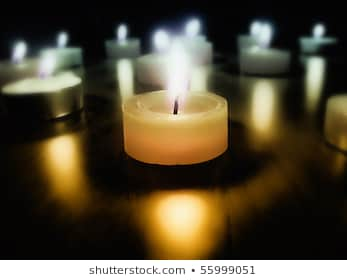Fire: (156, 40, 191, 101)
